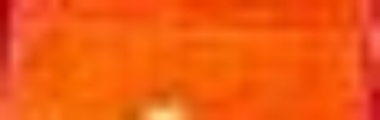Hotspot: (136, 92, 193, 120)
